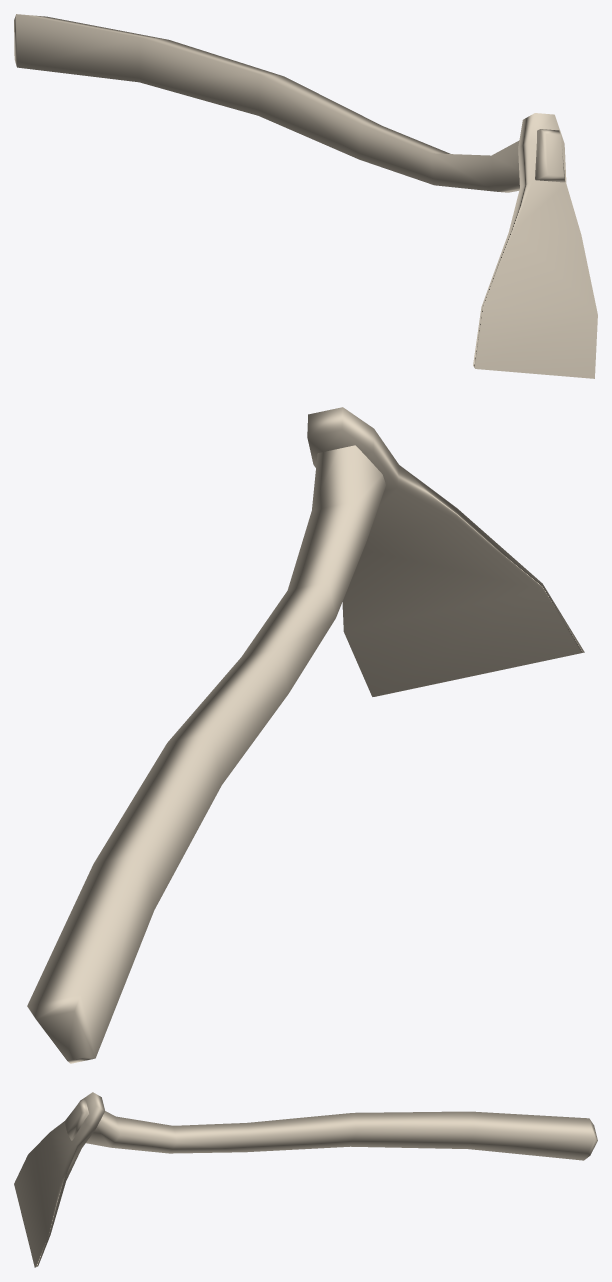
Rendered from hoe-base.glb.
3 views of the same model, one above another, from view 1: azimuth 30°, elevation 25°; view 2: azimuth 150°, elevation 25°; view 3: azimuth 270°, elevation 25° (orthographic). The views are drawn at different scales.
Bounding box in the file's own units: 0.4581 × 0.5208 × 1.63.
